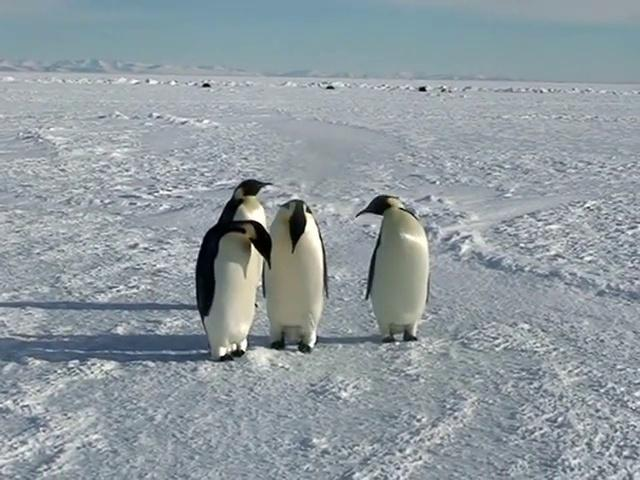animal: (359, 196, 430, 343)
